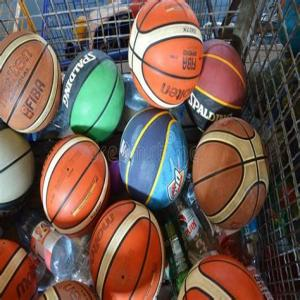Basket: (192, 117, 270, 232), (126, 0, 204, 109), (39, 132, 114, 239), (88, 199, 167, 298), (118, 107, 190, 211), (0, 30, 64, 132), (184, 39, 250, 136), (63, 47, 126, 141), (177, 252, 265, 300), (0, 126, 36, 222), (0, 238, 37, 300), (38, 281, 96, 300)
